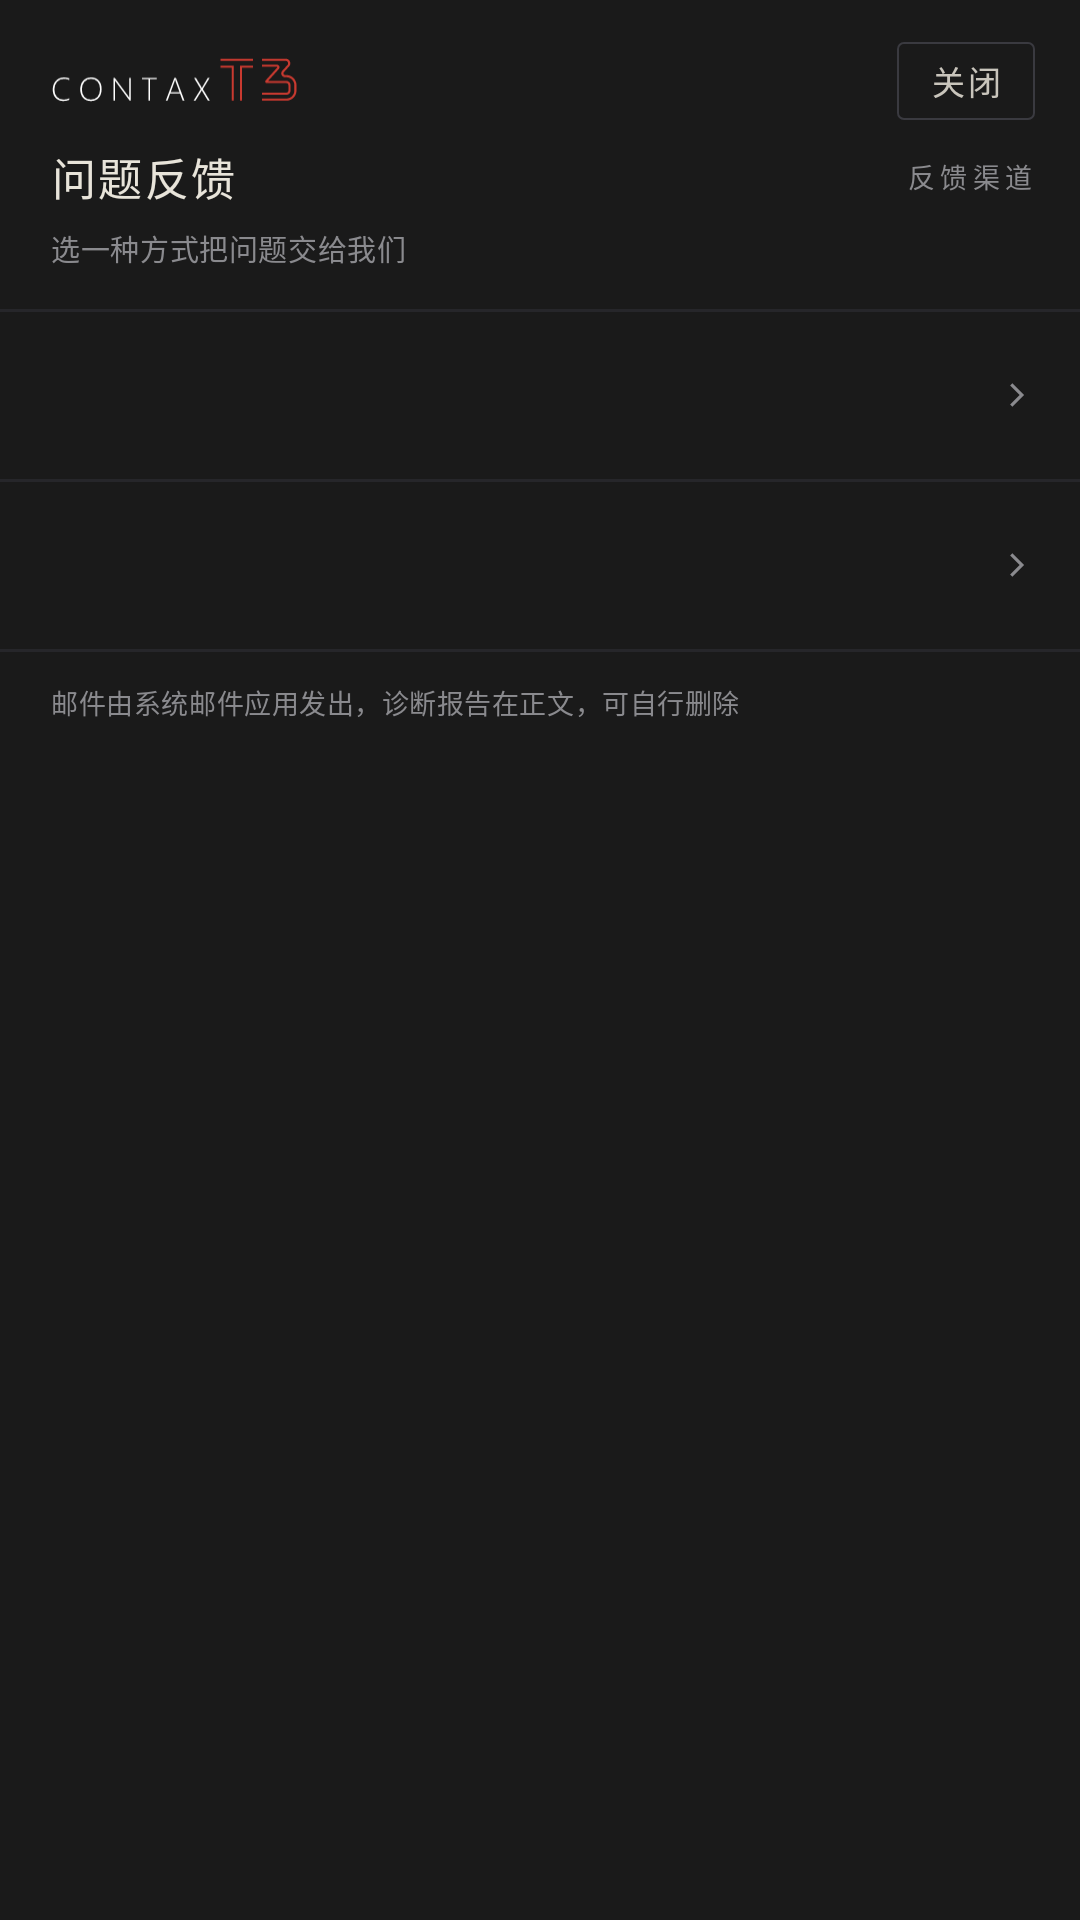

Icons on this 1080*1920 Android screen, each with the point to tap as (x,y):
set chevron: (1017,395), (1017,565)
